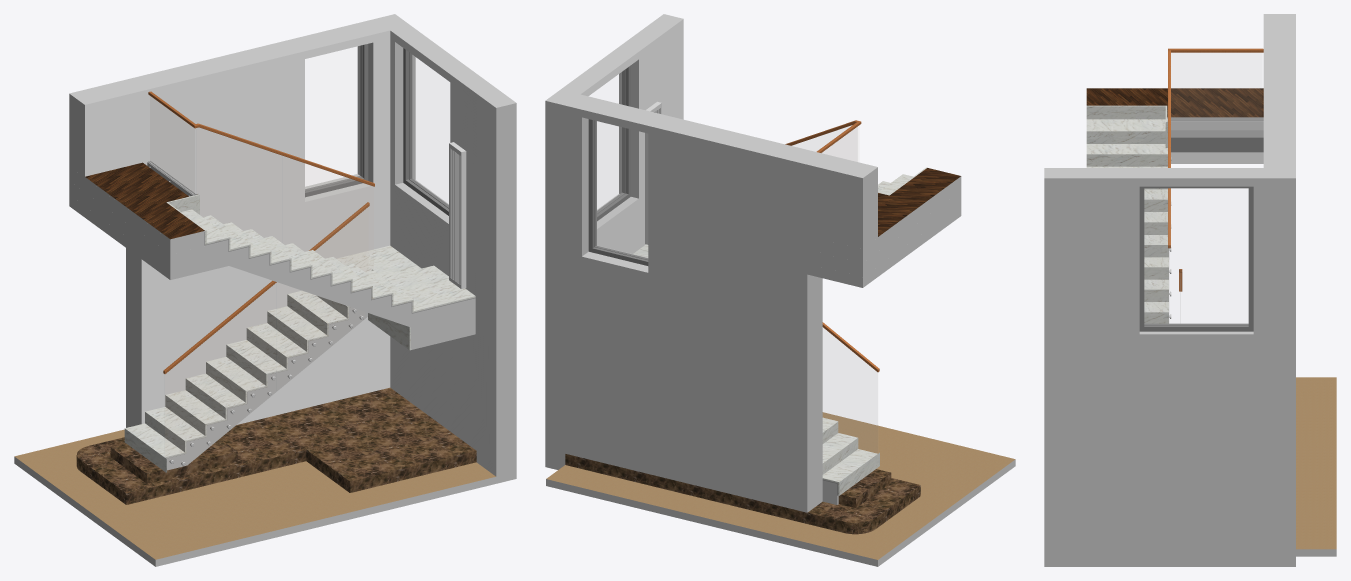
Rendered from 3D Деталь 2.gltf.
3 views of the same model, side by side, from view 1: azimuth 30°, elevation 25°; view 2: azimuth 150°, elevation 25°; view 3: azimuth 270°, elevation 25° (orthographic). The views are drawn at different scales.
Bounding box in the file's own units: 5.29 × 5.26 × 3.59.
270 materials, 5 textured.
